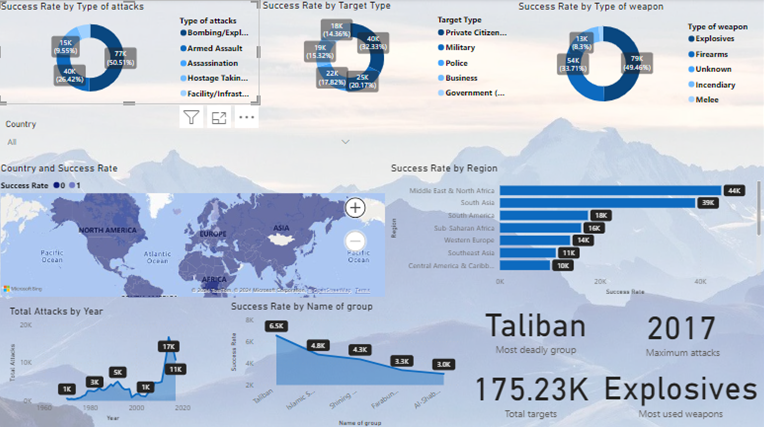

The page's visual inventory and layout, read from the dashboard file:
{"tool":"powerbi","page":{"name":"Page 1","canvas":[1280,720],"ordinal":0},"visuals":[{"type":"donutChart","fields":{"Category":["Global terrorism final data set.Type of attacks"],"Y":["Sum(Global terrorism final data set.Success Rate)"]},"box":[0,1.7,436.7,175],"z":0},{"type":"donutChart","fields":{"Category":["Global terrorism final data set.Target Type"],"Y":["Sum(Global terrorism final data set.Success Rate)"]},"box":[436.7,0,428.3,176.7],"z":1000},{"type":"donutChart","fields":{"Category":["Global terrorism final data set.Type of weapon"],"Y":["Sum(Global terrorism final data set.Success Rate)"]},"box":[865,1.7,415,195],"z":2000},{"type":"barChart","fields":{"Category":["Global terrorism final data set.Region"],"Y":["Sum(Global terrorism final data set.Success Rate)"]},"box":[651.7,271.7,628.3,228.3],"z":3000},{"type":"areaChart","fields":{"Category":["Global terrorism final data set.Name of group"],"Y":["Sum(Global terrorism final data set.Success Rate)"]},"box":[385,503.3,393.3,216.7],"z":4000},{"type":"areaChart","fields":{"Category":["Global terrorism final data set.Year"],"Y":["CountNonNull(Global terrorism final data set.Year)"]},"box":[15,511.7,311.7,200],"z":5000},{"type":"slicer","fields":{"Values":["Global terrorism final data set.Country"]},"box":[0,196.7,603.3,75],"z":6000},{"type":"card","fields":{"Values":["Min(Global terrorism final data set.Name of group)"]},"box":[803.3,493.3,190,110],"z":7000},{"type":"card","fields":{"Values":["CountNonNull(Global terrorism final data set.Target Type)"]},"box":[786.7,601.7,206.7,106.7],"z":8000},{"type":"card","fields":{"Values":["Max(Global terrorism final data set.Year)"]},"box":[1046.7,503.3,188.3,100],"z":9000},{"type":"card","fields":{"Values":["Min(Global terrorism final data set.Type of weapon)"]},"box":[1001.7,588.3,278.3,131.7],"z":10000},{"type":"map","fields":{"Category":["Global terrorism final data set.Country"],"Size":["Sum(Global terrorism final data set.Success Rate)"]},"box":[0,272,603,228],"z":11000}]}

Visuals, with their boxes in screenshot pixels (x1, y1, x2, y2), scaled from the page's 1280x720 canvas onto the 764x427 screenshot:
donutChart - Global terrorism final data set.Type of attacks x Sum(Global terrorism final data set.Success Rate): <box>0,1,261,105</box>
donutChart - Global terrorism final data set.Target Type x Sum(Global terrorism final data set.Success Rate): <box>261,0,516,105</box>
donutChart - Global terrorism final data set.Type of weapon x Sum(Global terrorism final data set.Success Rate): <box>516,1,763,117</box>
barChart - Global terrorism final data set.Region x Sum(Global terrorism final data set.Success Rate): <box>389,161,763,297</box>
areaChart - Global terrorism final data set.Name of group x Sum(Global terrorism final data set.Success Rate): <box>230,298,465,426</box>
areaChart - Global terrorism final data set.Year x CountNonNull(Global terrorism final data set.Year): <box>9,303,195,422</box>
slicer - Global terrorism final data set.Country: <box>0,117,360,161</box>
card - Min(Global terrorism final data set.Name of group): <box>479,293,593,358</box>
card - CountNonNull(Global terrorism final data set.Target Type): <box>470,357,593,420</box>
card - Max(Global terrorism final data set.Year): <box>625,298,737,358</box>
card - Min(Global terrorism final data set.Type of weapon): <box>598,349,763,426</box>
map - Global terrorism final data set.Country x Sum(Global terrorism final data set.Success Rate): <box>0,161,360,297</box>
